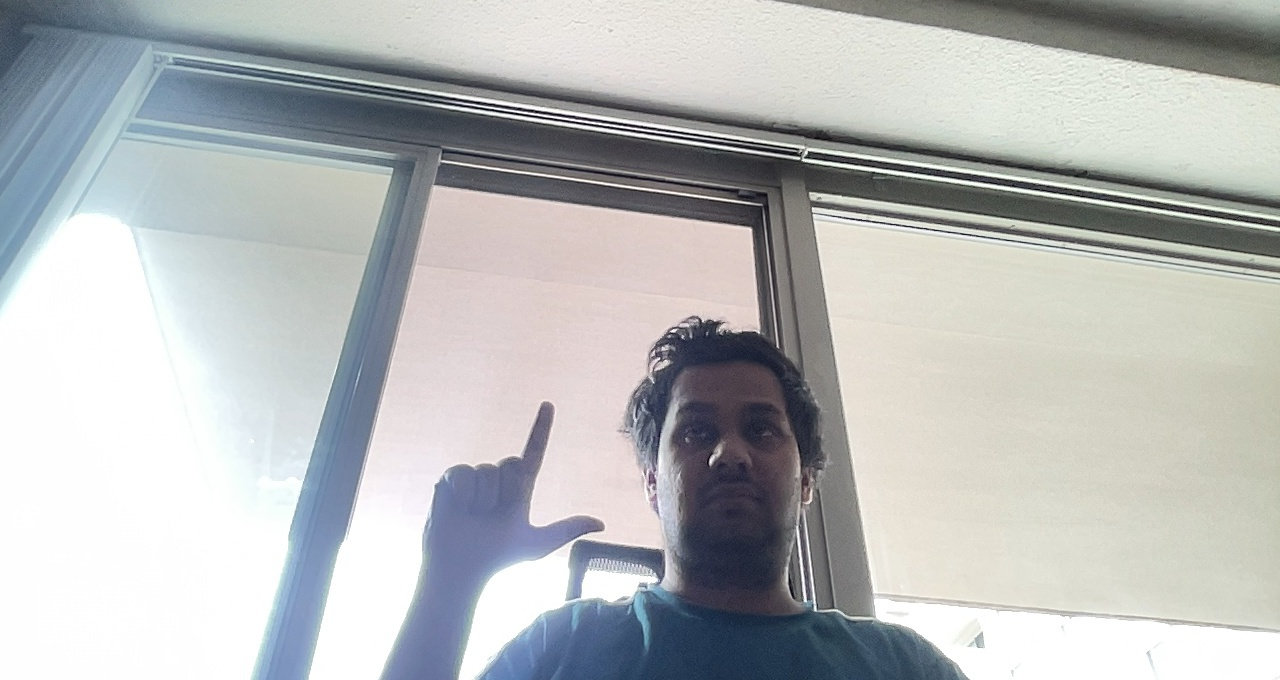L: (419, 393, 605, 574)
